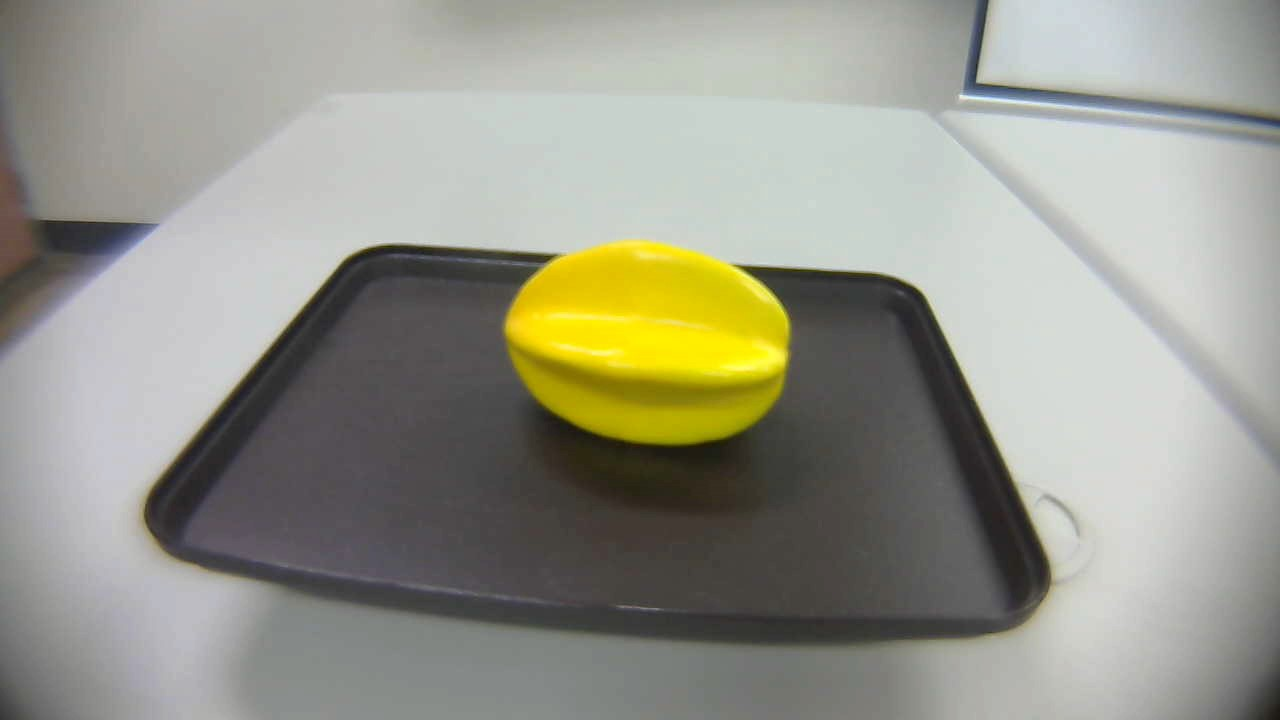star fruit: (493, 238, 797, 453)
